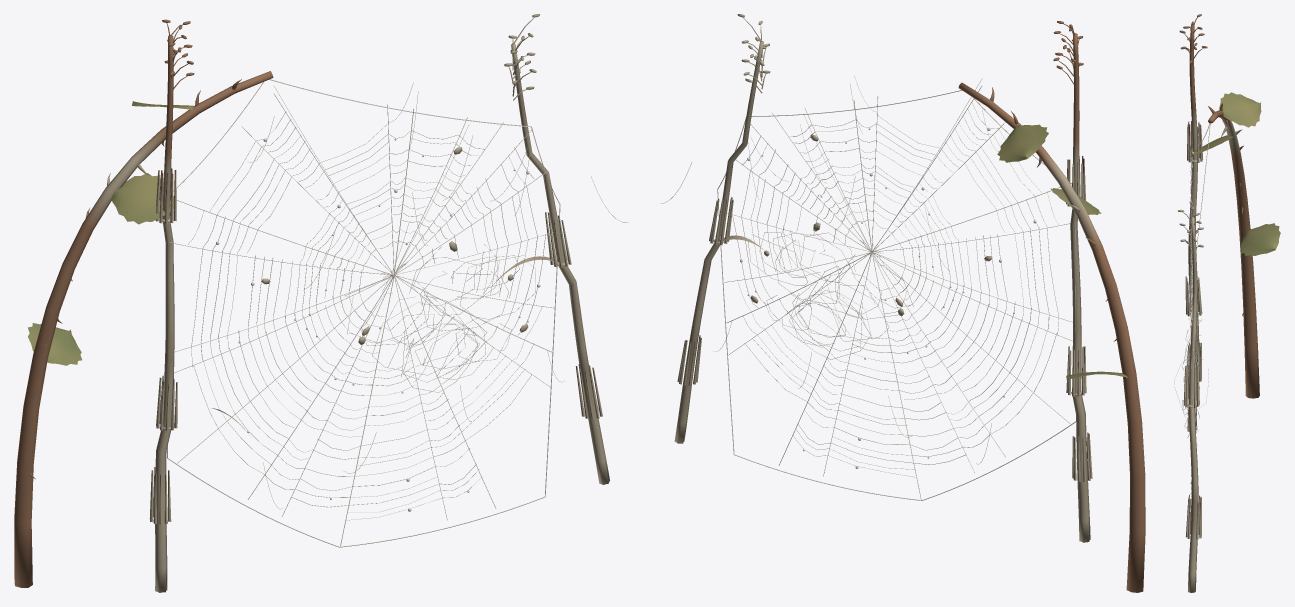
The model's file is web.gltf.
3 renders of one model, left to right at view 1: azimuth 30°, elevation 25°; view 2: azimuth 150°, elevation 25°; view 3: azimuth 270°, elevation 25°, orthographic. The views are drawn at different scales.
Visible parts, largest first — view 1: web_stems, web_silk, web_leaves, web_wrap; view 2: web_stems, web_silk, web_wrap, web_leaves; view 3: web_stems, web_leaves, web_silk, web_wrap.
Boxes of the visible parts, x1=… form: web_stems: x1=14, y1=14, x2=609, y2=592; web_silk: x1=167, y1=79, x2=628, y2=547; web_leaves: x1=28, y1=101, x2=193, y2=365; web_wrap: x1=344, y1=244, x2=535, y2=392; web_stems: x1=674, y1=14, x2=1145, y2=592; web_silk: x1=660, y1=76, x2=1076, y2=500; web_wrap: x1=748, y1=228, x2=913, y2=359; web_leaves: x1=997, y1=124, x2=1127, y2=379; web_stems: x1=1178, y1=14, x2=1259, y2=592; web_leaves: x1=1193, y1=92, x2=1280, y2=255; web_silk: x1=1188, y1=116, x2=1210, y2=498; web_wrap: x1=1174, y1=319, x2=1208, y2=437.
Bounding box in the file's own units: 20.92 × 19.93 × 4.52.
